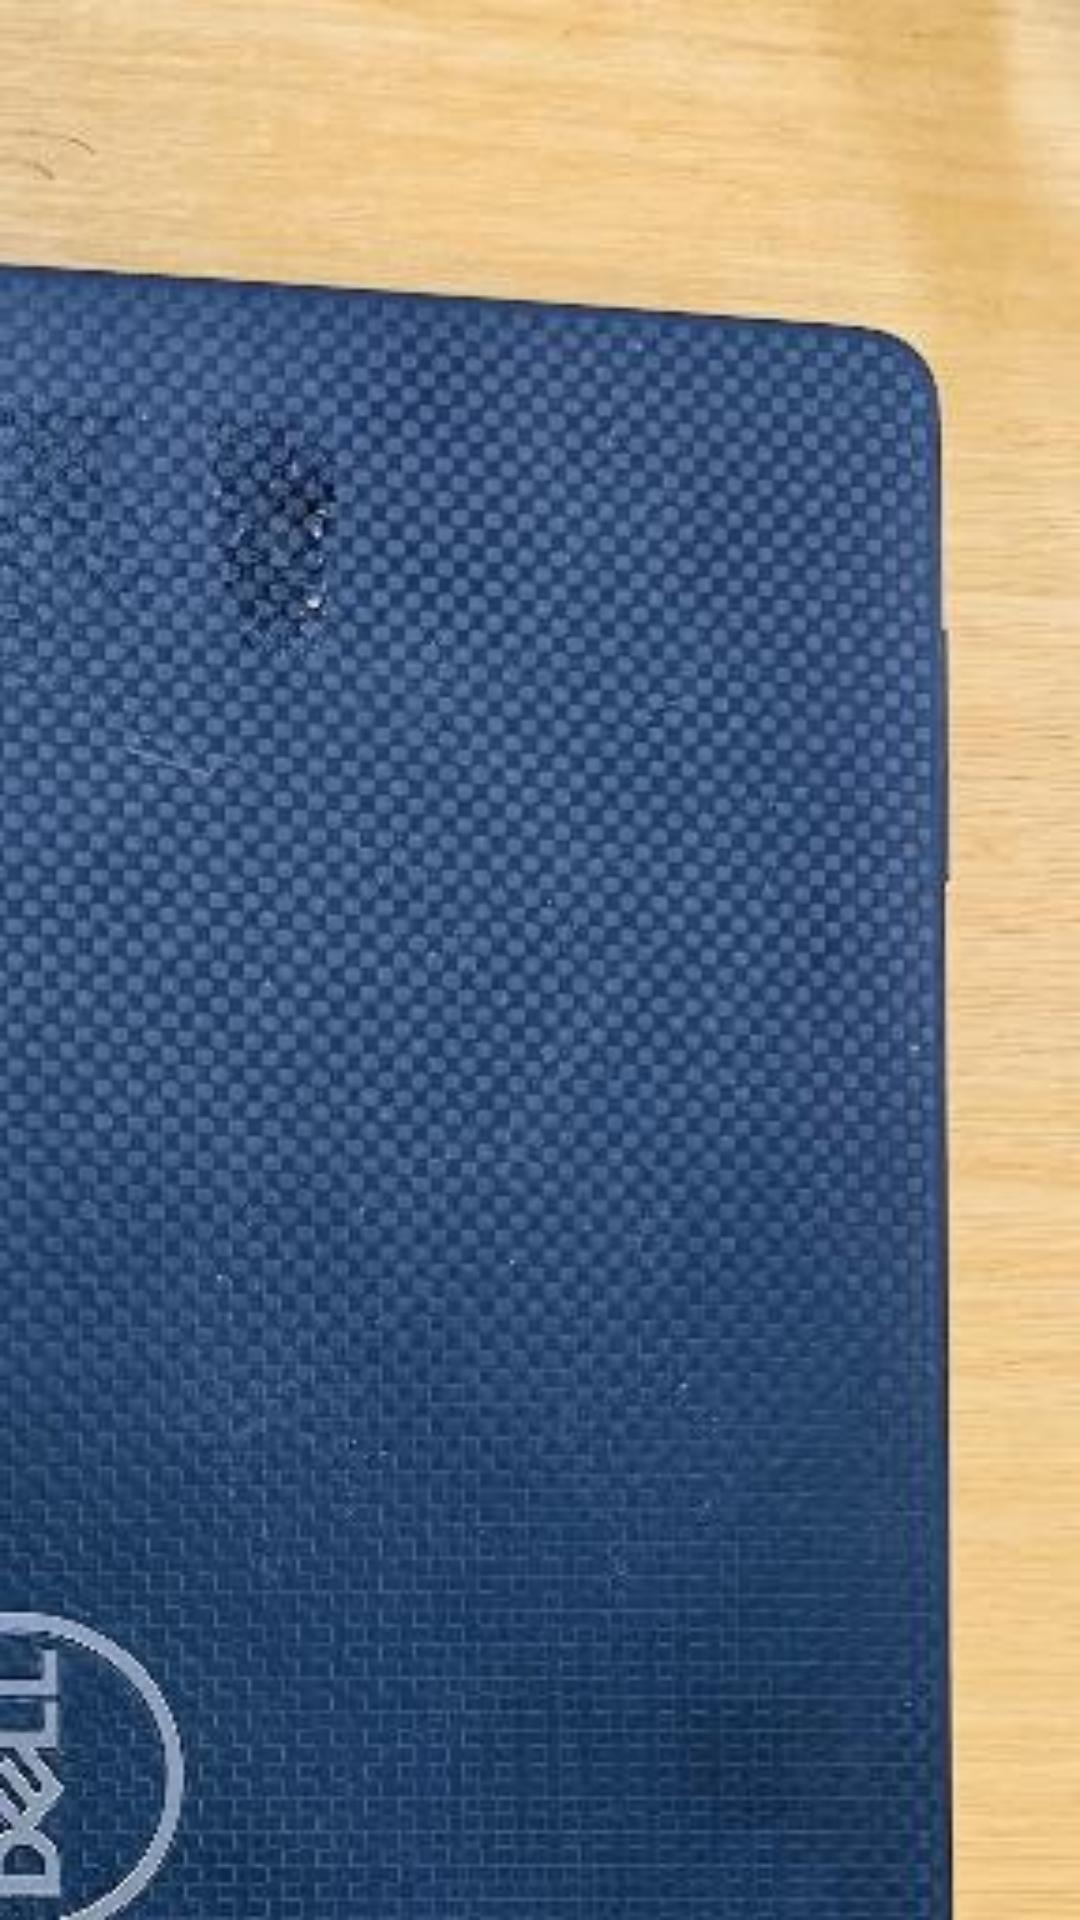scratches: (120, 727, 245, 769), (119, 744, 215, 781)
